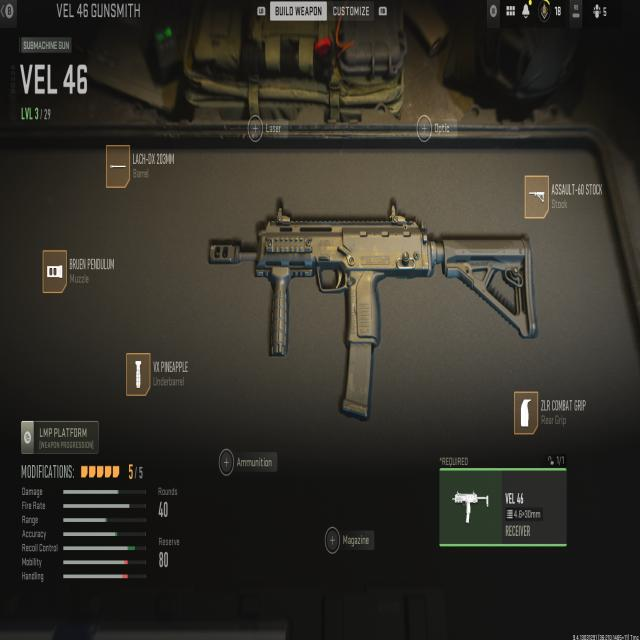Weapon: (209, 206, 535, 417)
